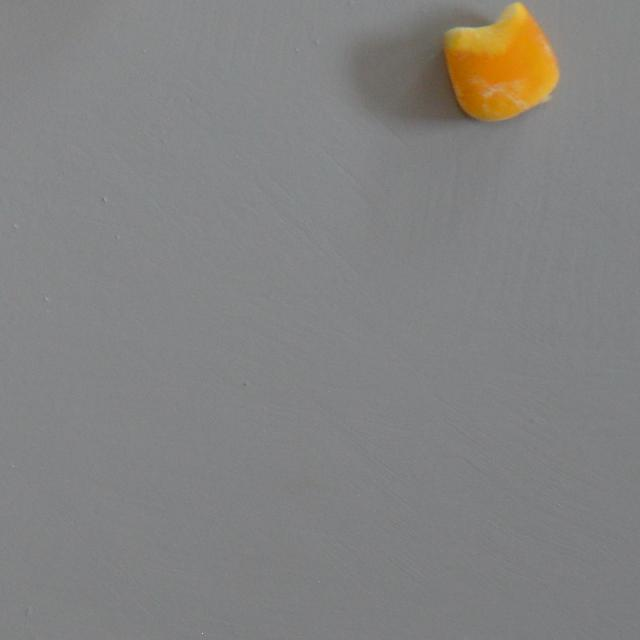dañado: (438, 0, 564, 130)
